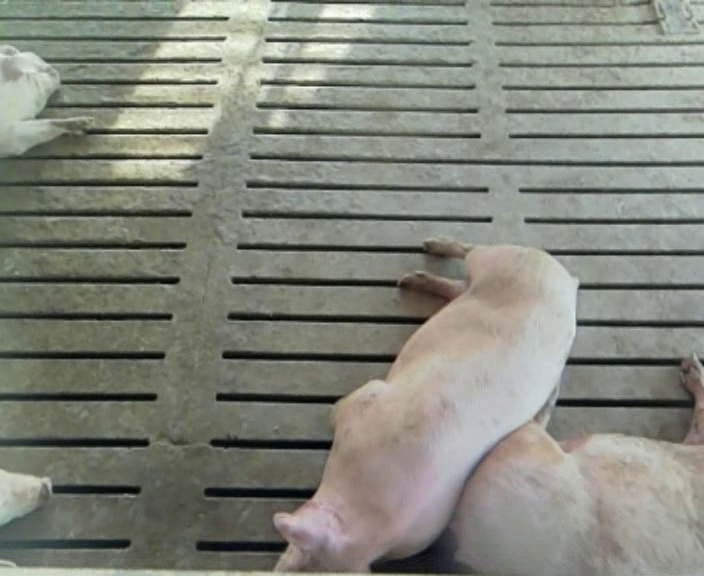pig: (274, 240, 576, 570)
